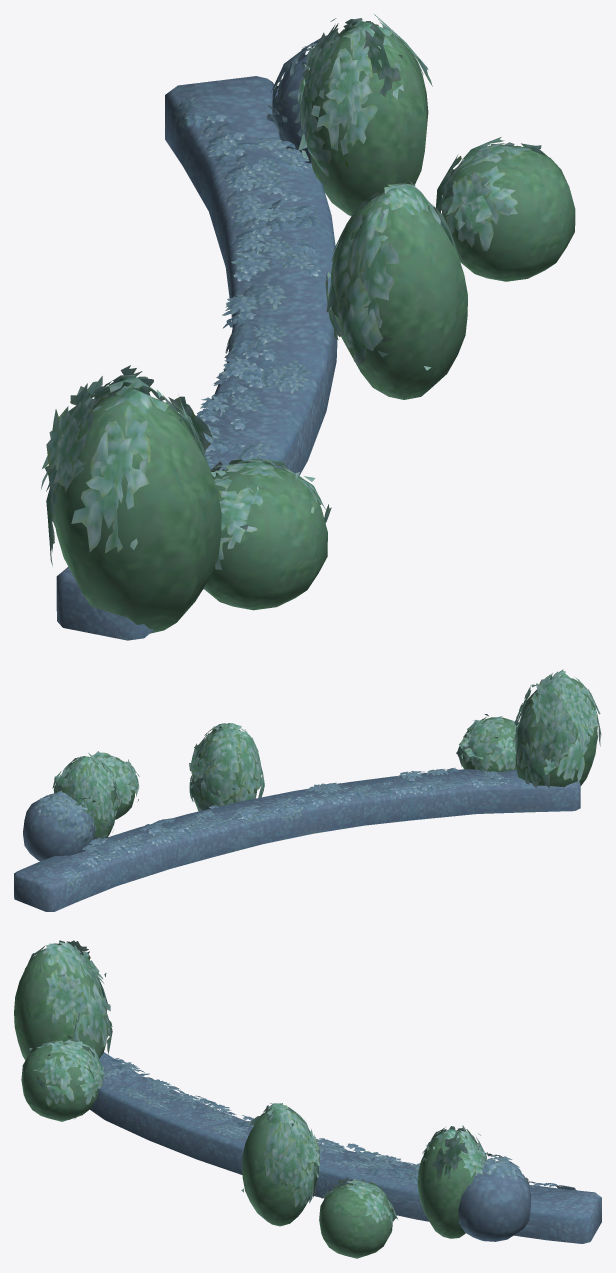
File: pref_sm_beach_bk_winter_pointmol_longplant_L02_lv1.fbx
3 views of the same model, one above another, from view 1: azimuth 30°, elevation 25°; view 2: azimuth 150°, elevation 25°; view 3: azimuth 270°, elevation 25° (orthographic). The views are drawn at different scales.
Visible parts, largest first — view 1: sm_beach_bk_winter_pointmol_longplant_L02_lv1; view 2: sm_beach_bk_winter_pointmol_longplant_L02_lv1; view 3: sm_beach_bk_winter_pointmol_longplant_L02_lv1.
Boxes of the visible parts, bbox=[...] form: sm_beach_bk_winter_pointmol_longplant_L02_lv1: bbox=[41, 14, 575, 640]; sm_beach_bk_winter_pointmol_longplant_L02_lv1: bbox=[14, 669, 601, 911]; sm_beach_bk_winter_pointmol_longplant_L02_lv1: bbox=[14, 940, 601, 1258].
Bounding box in the file's own units: 19.45 × 6.84 × 23.18.
